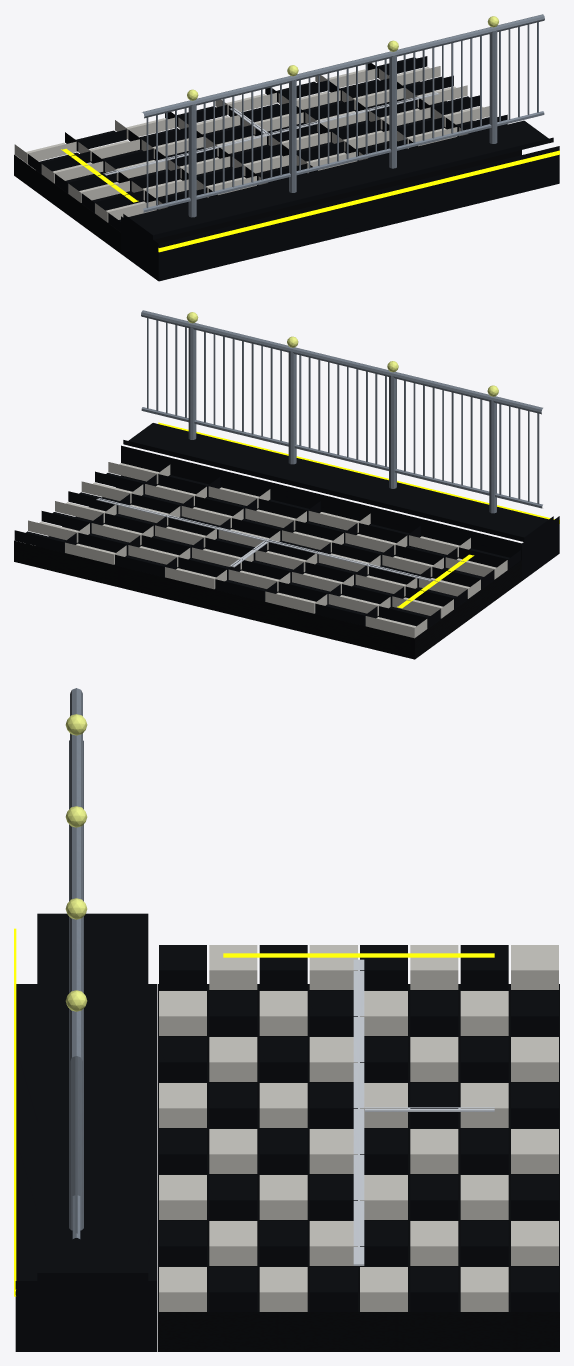
The model's file is v1_edge.glb.
3 views of the same model, one above another, from view 1: azimuth 30°, elevation 25°; view 2: azimuth 150°, elevation 25°; view 3: azimuth 270°, elevation 25° (orthographic). The views are drawn at different scales.
Visible parts, largest first — view 1: Coping_Kerb, Guard_Frame, Pavers_A, Pavers_B, Deck_Slab, Coping_Line, Court_Lines, Post_Ball_Finials, Court_Line_Amber; view 2: Pavers_A, Pavers_B, Coping_Kerb, Guard_Frame, Deck_Slab, Court_Lines, Coping_Line, Post_Ball_Finials; view 3: Pavers_B, Pavers_A, Coping_Kerb, Deck_Slab, Guard_Frame, Court_Lines, Post_Ball_Finials, Court_Line_Amber, Coping_Line.
Part boxes in pixels (x1=…): Coping_Kerb: x1=121, y1=120, x2=559, y2=281; Guard_Frame: x1=142, y1=14, x2=544, y2=217; Pavers_A: x1=14, y1=66, x2=489, y2=222; Pavers_B: x1=28, y1=56, x2=507, y2=231; Deck_Slab: x1=14, y1=81, x2=521, y2=253; Coping_Line: x1=158, y1=150, x2=559, y2=252; Court_Lines: x1=103, y1=92, x2=439, y2=175; Post_Ball_Finials: x1=187, y1=16, x2=498, y2=100; Court_Line_Amber: x1=61, y1=148, x2=138, y2=202; Pavers_A: x1=28, y1=462, x2=507, y2=638; Pavers_B: x1=14, y1=471, x2=520, y2=628; Coping_Kerb: x1=121, y1=423, x2=559, y2=580; Guard_Frame: x1=141, y1=310, x2=542, y2=513; Deck_Slab: x1=14, y1=487, x2=521, y2=659; Court_Lines: x1=96, y1=498, x2=432, y2=581; Coping_Line: x1=158, y1=422, x2=559, y2=523; Post_Ball_Finials: x1=186, y1=312, x2=498, y2=396; Pavers_B: x1=159, y1=945, x2=558, y2=1311; Pavers_A: x1=159, y1=945, x2=558, y2=1311; Coping_Kerb: x1=15, y1=913, x2=156, y2=1351; Deck_Slab: x1=157, y1=984, x2=559, y2=1351; Guard_Frame: x1=69, y1=688, x2=83, y2=1238; Court_Lines: x1=353, y1=959, x2=494, y2=1265; Post_Ball_Finials: x1=65, y1=714, x2=87, y2=1011; Court_Line_Amber: x1=223, y1=953, x2=494, y2=957; Coping_Line: x1=14, y1=928, x2=16, y2=1296.
Size of what is drawn, in the model's own units: 4 by 1.6 by 2.51.
7 materials, 4 textured.
